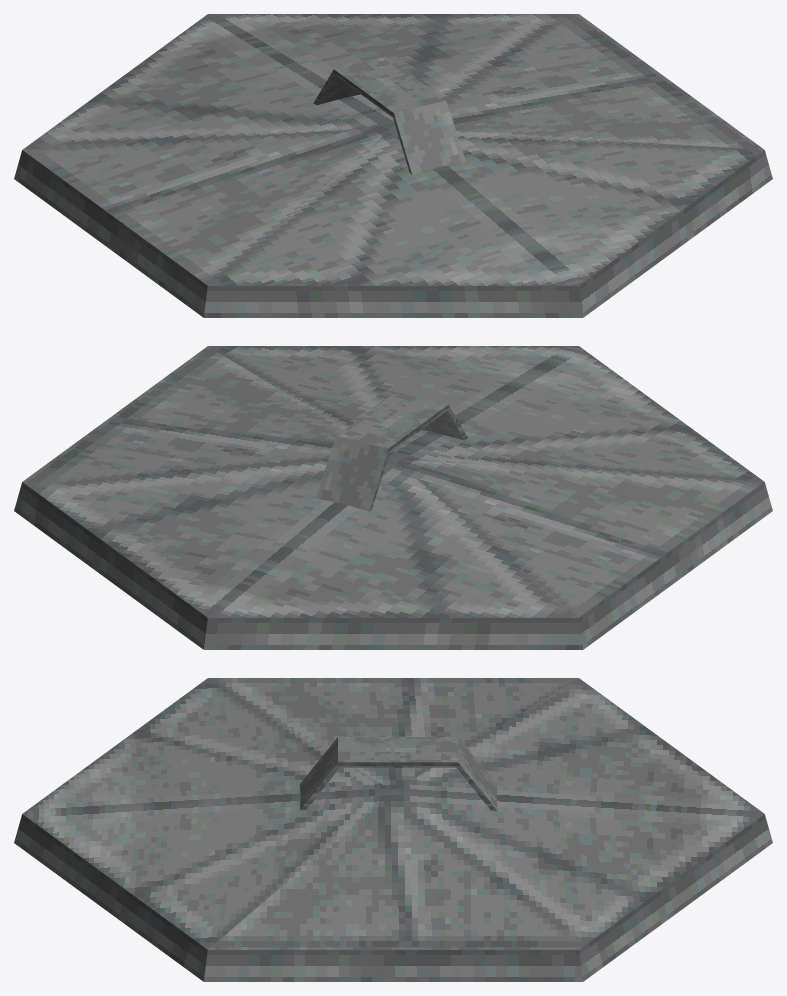
Rendered from metaltrashcan_lid.glb.
3 views of the same model, one above another, from view 1: azimuth 30°, elevation 25°; view 2: azimuth 150°, elevation 25°; view 3: azimuth 270°, elevation 25° (orthographic).
Visible parts, largest first — view 1: metaltrashcan_lid; view 2: metaltrashcan_lid; view 3: metaltrashcan_lid.
Boxes of the visible parts, x1=… form: metaltrashcan_lid: x1=14, y1=14, x2=772, y2=317; metaltrashcan_lid: x1=14, y1=346, x2=772, y2=649; metaltrashcan_lid: x1=14, y1=678, x2=772, y2=981.
Bounding box in the file's own units: 0.7618 × 0.1187 × 0.8797.
Materials: 1 (1 with a texture image).
